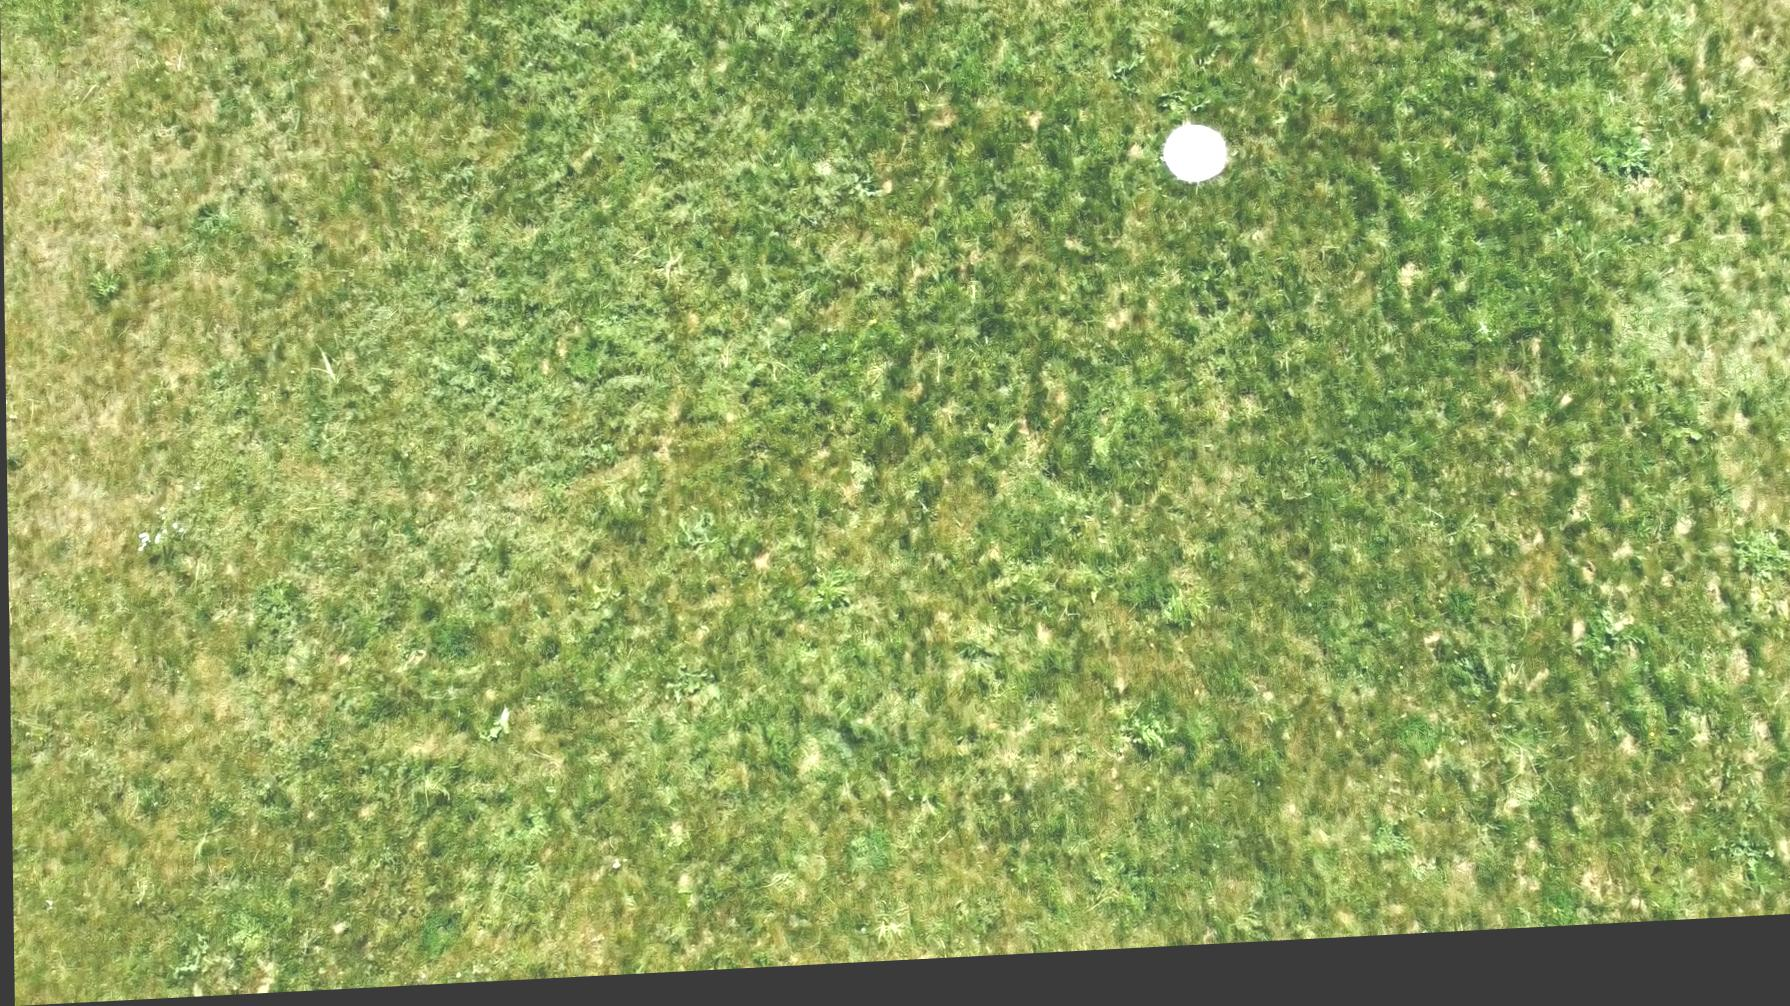Blue: (1159, 130, 1228, 200)
